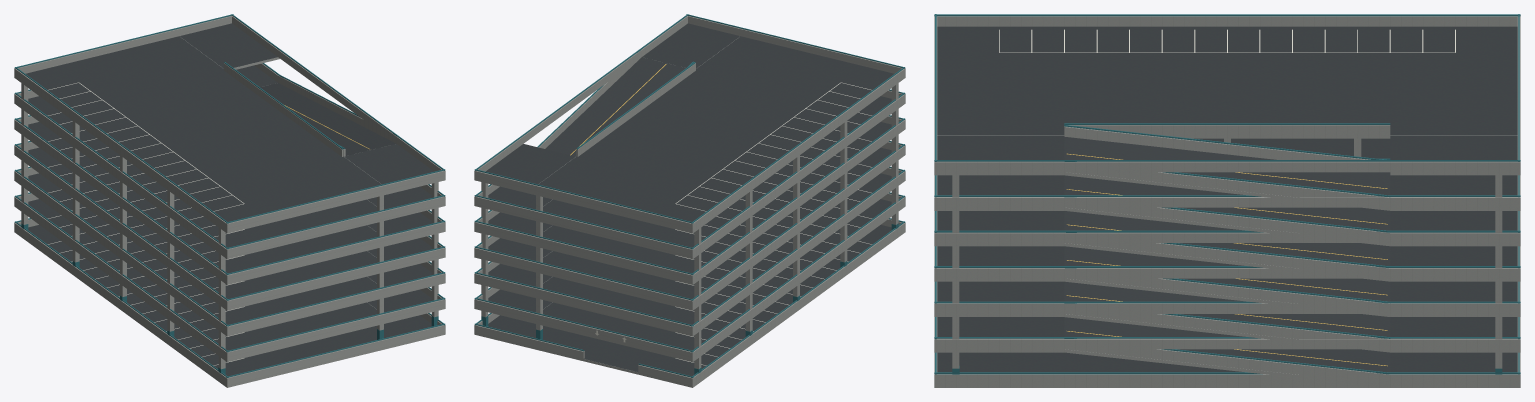
Rendered from small_07.glb.
3 views of the same model, side by side, from view 1: azimuth 30°, elevation 25°; view 2: azimuth 150°, elevation 25°; view 3: azimuth 270°, elevation 25° (orthographic). The views are drawn at different scales.
Visible parts, largest first — view 1: small_07_Asphalt, small_07_Concrete, small_07_Teal, small_07_Paint; view 2: small_07_Asphalt, small_07_Concrete, small_07_Teal, small_07_Paint; view 3: small_07_Asphalt, small_07_Concrete, small_07_Teal, small_07_Yellow, small_07_Paint.
Part boxes in pixels (x1,y1,x2,y2): small_07_Asphalt: (25,23,433,376); small_07_Concrete: (14,16,445,387); small_07_Teal: (14,14,445,377); small_07_Paint: (48,82,244,365); small_07_Asphalt: (486,23,894,376); small_07_Concrete: (474,16,905,387); small_07_Teal: (474,14,905,377); small_07_Paint: (675,82,871,365); small_07_Asphalt: (937,26,1517,372); small_07_Concrete: (934,16,1520,387); small_07_Teal: (934,14,1520,374); small_07_Yellow: (1066,153,1387,366); small_07_Paint: (999,29,1455,52).
Bounding box in the file's own units: 32 × 23.08 × 54.02.
Materials: 6 (2 with a texture image).
